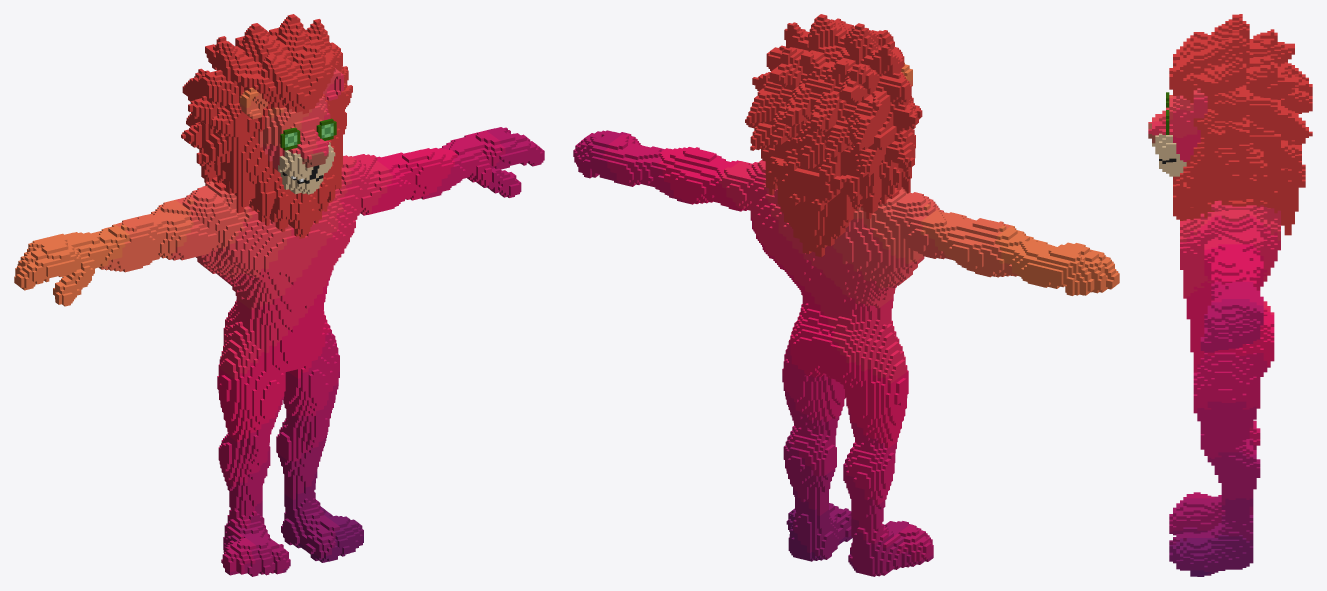
The model's file is 775-BMS1OU2P.glb.
3 renders of one model, left to right at view 1: azimuth 30°, elevation 25°; view 2: azimuth 150°, elevation 25°; view 3: azimuth 270°, elevation 25°, orthographic. The views are drawn at different scales.
Parts seen in each view (by area): view 1: smirk; view 2: smirk; view 3: smirk.
Boxes of the visible parts, x1=… form: smirk: x1=14, y1=14, x2=544, y2=576; smirk: x1=573, y1=14, x2=1119, y2=576; smirk: x1=1148, y1=14, x2=1312, y2=576.
Bounding box in the file's own units: 17.2 × 16.5 × 4.7.
4 materials, 4 textured.
